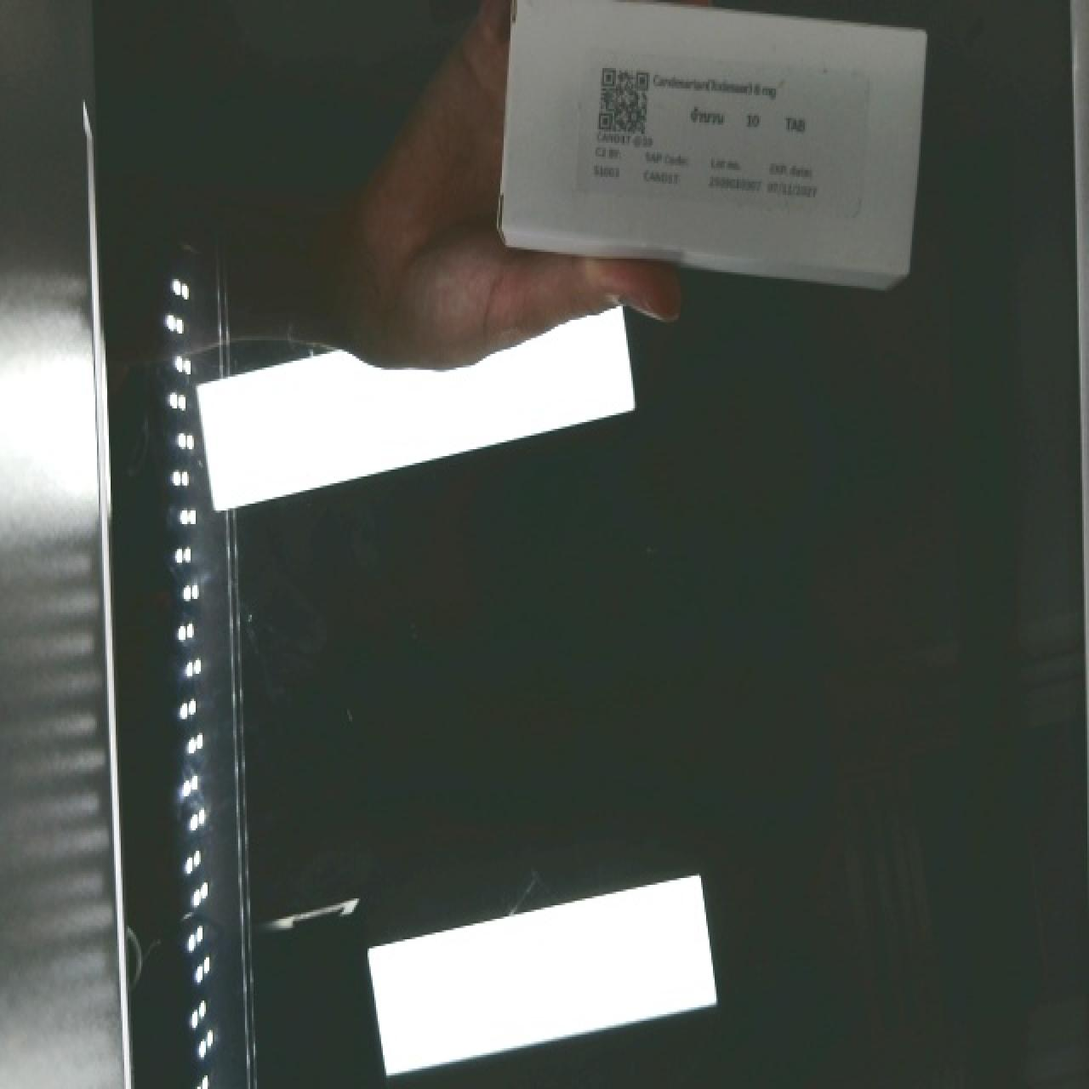qr_code: (577, 50, 672, 162)
